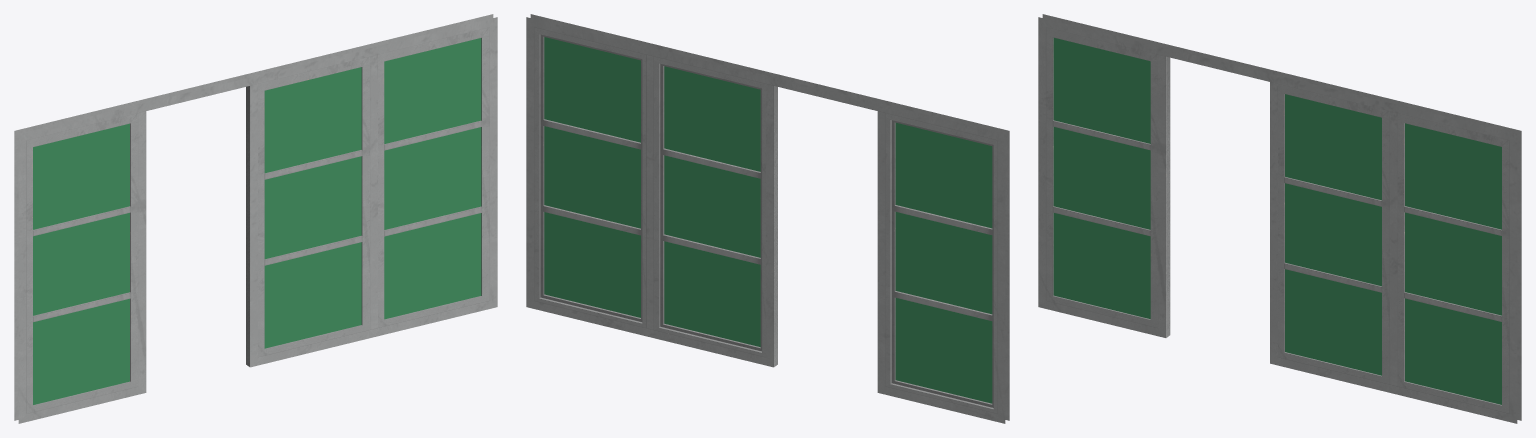
File: WindowPanelB.fbx
3 renders of one model, left to right at view 1: azimuth 30°, elevation 25°; view 2: azimuth 150°, elevation 25°; view 3: azimuth 330°, elevation 25°, orthographic.
Visible parts, largest first — view 1: glass, frame; view 2: glass, frame; view 3: glass, frame.
Boxes of the visible parts, <box> form: glass: <box>33,38,481,404</box>; frame: <box>14,14,497,423</box>; glass: <box>544,37,992,403</box>; frame: <box>526,14,1009,423</box>; glass: <box>1053,38,1501,404</box>; frame: <box>1038,14,1521,423</box>.
Size of the model in its own units: 471 by 272 by 7.18.
